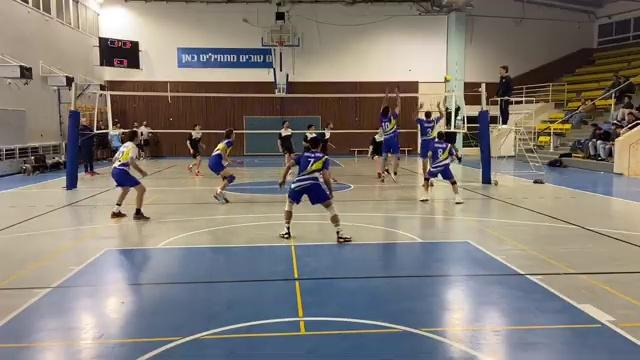ball: (444, 74, 455, 84)
